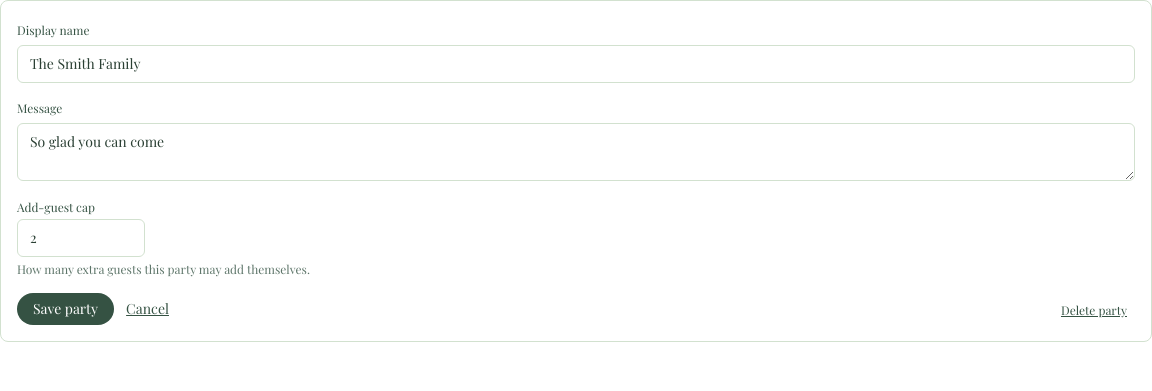
PartyEditForm › shows the server message when the save fails
What coordinates should you click on to do the following:
click the button "Save party"
I would click on:
 (66, 309)
Its box is [17,293,114,325].
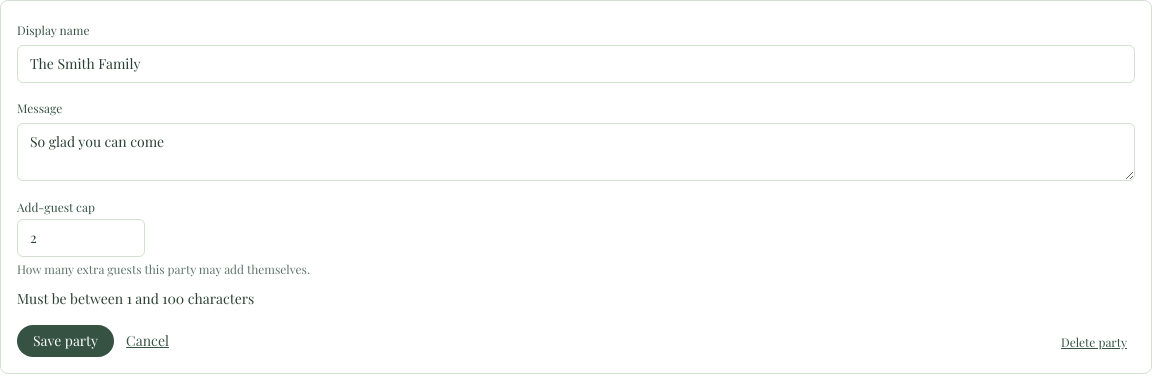
Now the message with test id "party-edit-error" reads "Must be between 1 and 100 characters", box [17,289,254,308]
